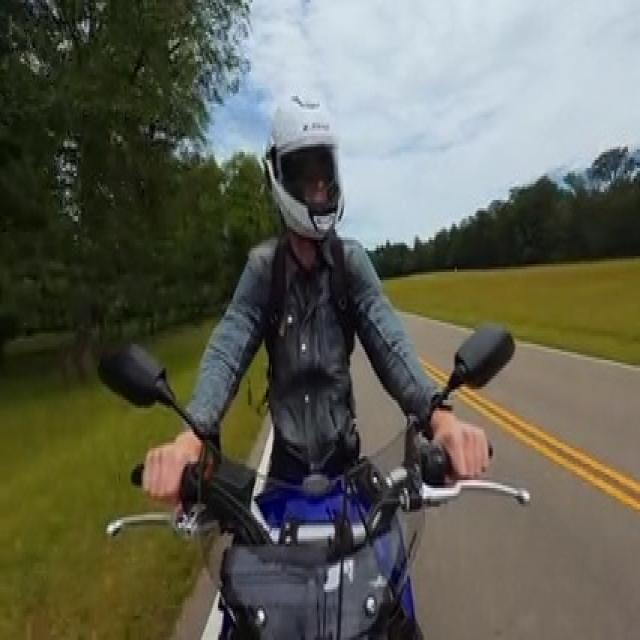Helmet_Wearer: (254, 75, 349, 238)
Person: (171, 65, 494, 539)
